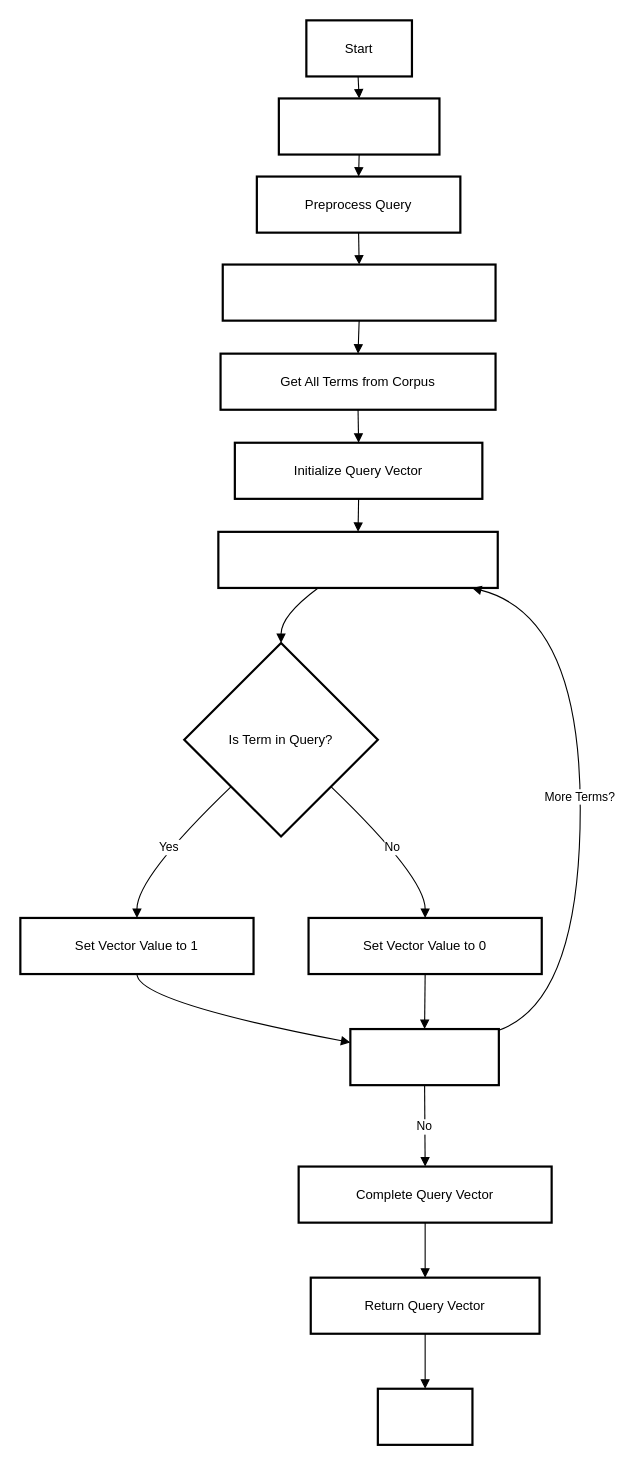
This 635x1464 diagram has some shape labels left out. The box of each missing label's shape, as (x1, y1, x2, y2) in pixels:
End: (376, 1387, 473, 1445)
Extract Terms from Query: (221, 263, 496, 321)
For Each Term in All Terms: (217, 530, 498, 588)
Input Query: (277, 97, 440, 155)
Next Term: (349, 1027, 499, 1086)
